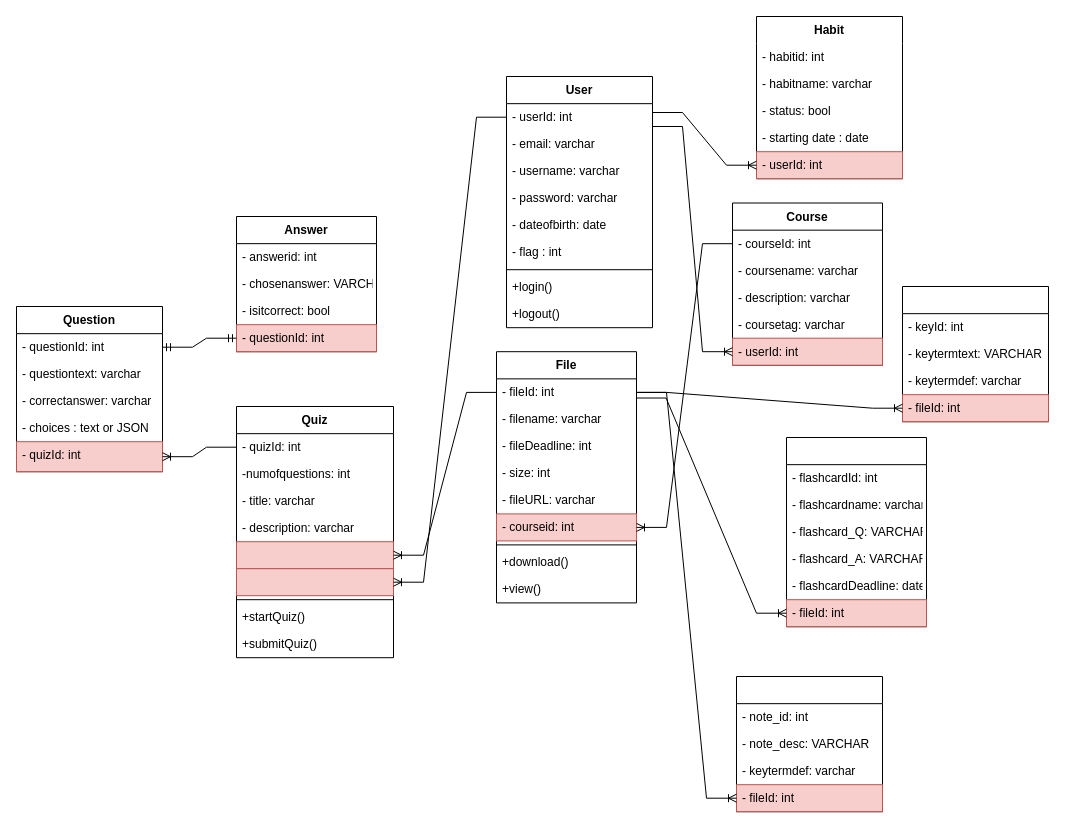
Some shapes in this 1065 by 828 pixel diagram are drawn without their labels. The box of each missing label's shape, as (x1, y1, x2, y2) in pixels:
-fileid: int: (236, 541, 394, 569)
-userid: int: (236, 568, 394, 596)
Flashcards: (786, 436, 926, 627)
keyrems: (902, 286, 1048, 422)
Notes: (736, 676, 882, 812)
